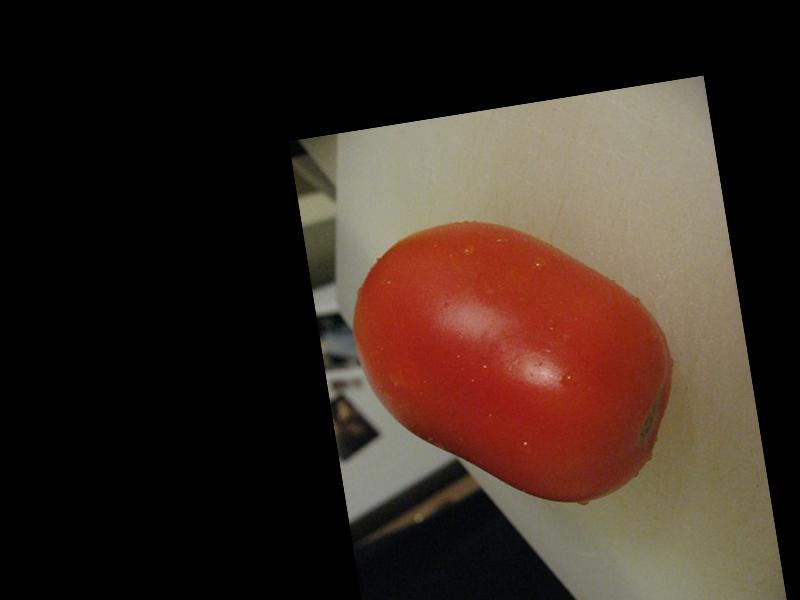Tomato: (337, 193, 689, 534)
